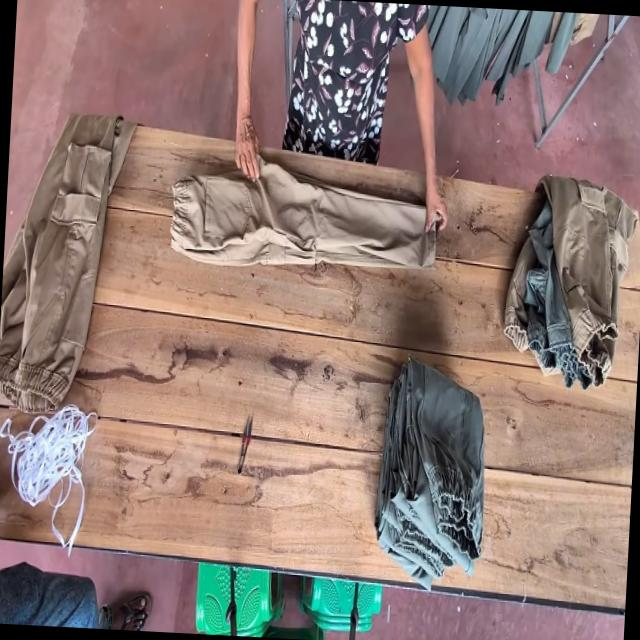new-garment: (170, 162, 434, 267)
